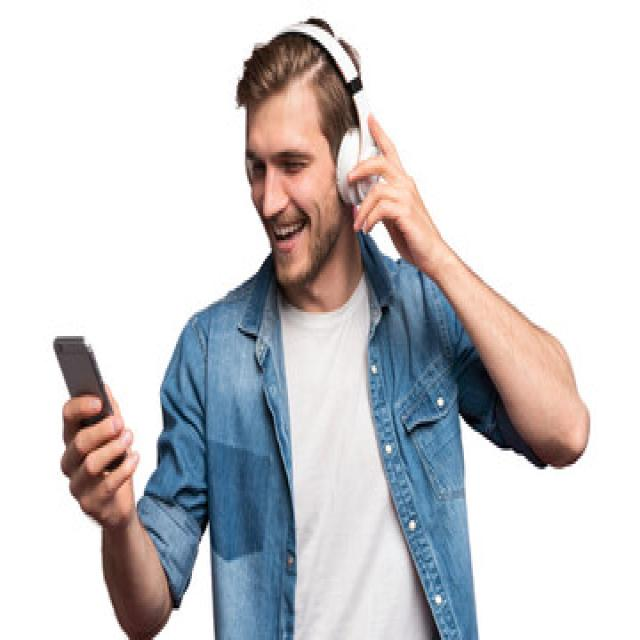Headphone: (276, 21, 384, 213)
